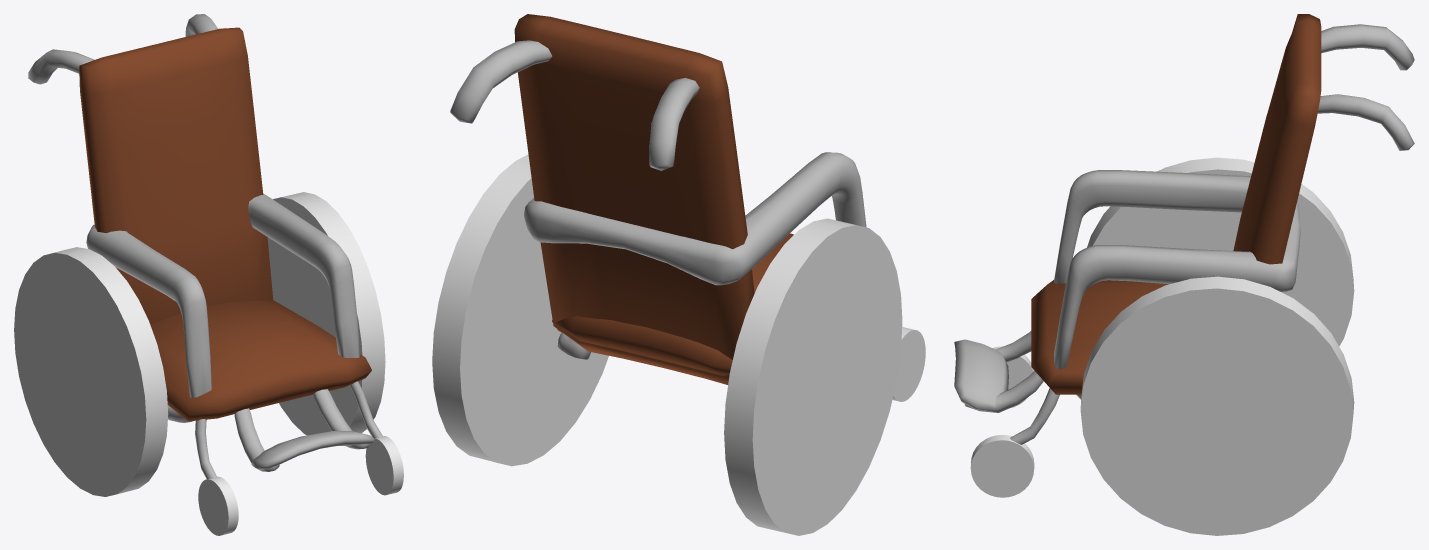
Rendered from WheelChair.fbx.
3 views of the same model, side by side, from view 1: azimuth 30°, elevation 25°; view 2: azimuth 150°, elevation 25°; view 3: azimuth 270°, elevation 25° (orthographic). The views are drawn at different scales.
Parts seen in each view (by area): view 1: Cube, Cylinder, Cube.001; view 2: Cylinder, Cube, Cube.001; view 3: Cylinder, Cube.001, Cube.
Part boxes in pixels (x1,y1,x2,y2): Cube: (79, 27, 371, 421); Cylinder: (14, 192, 403, 535); Cube.001: (28, 14, 382, 479); Cylinder: (432, 154, 925, 535); Cube: (514, 14, 793, 384); Cube.001: (450, 40, 866, 359); Cylinder: (970, 157, 1354, 535); Cube.001: (954, 24, 1414, 444); Cube: (1031, 14, 1321, 394).
Size of the model in its own units: 311 by 451 by 450.
